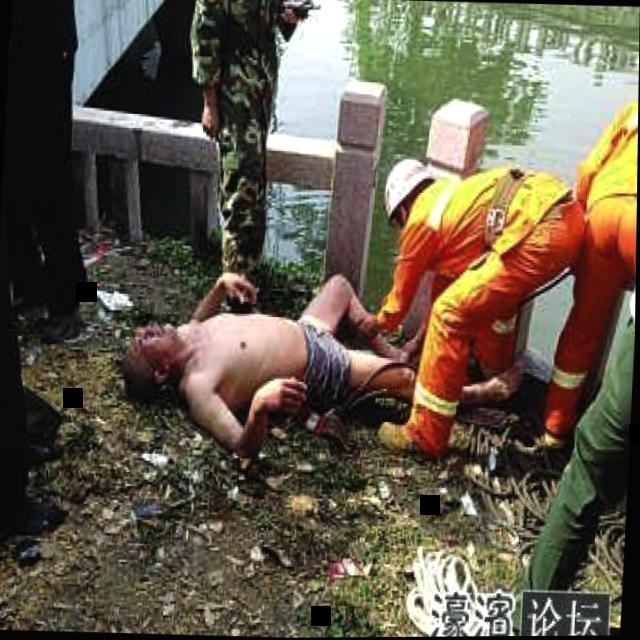Fall-Detected: (111, 244, 440, 482)
